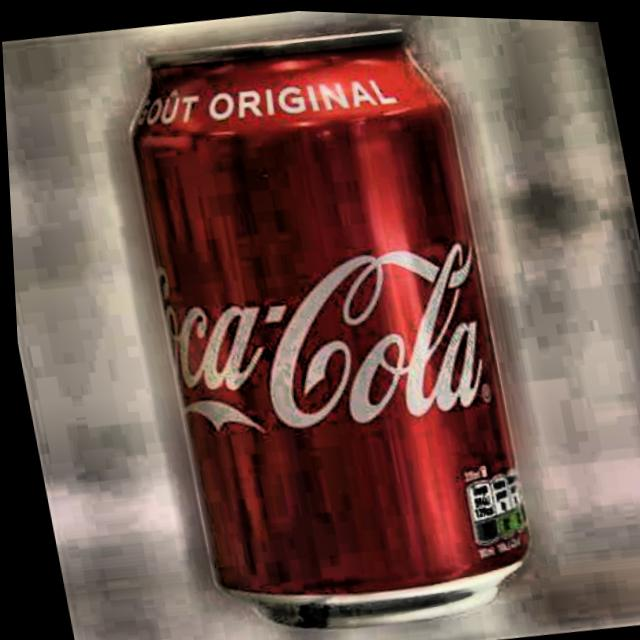Cans: (109, 3, 547, 640)
